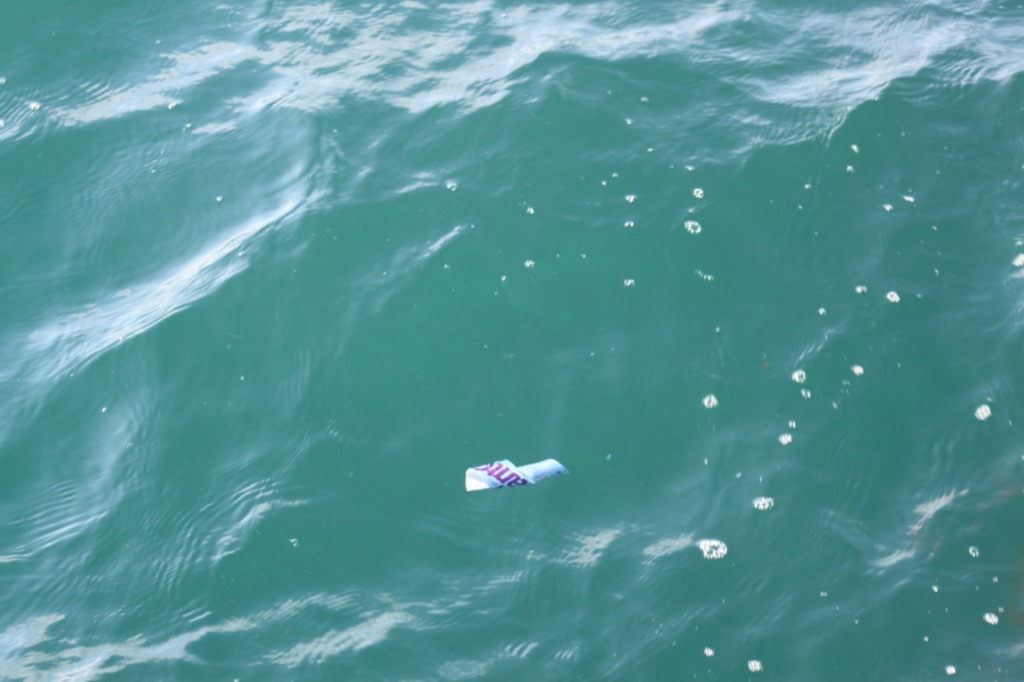plastic: (450, 444, 579, 513)
